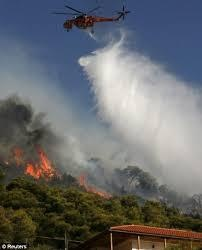fire: (12, 145, 59, 180), (77, 173, 112, 197)
